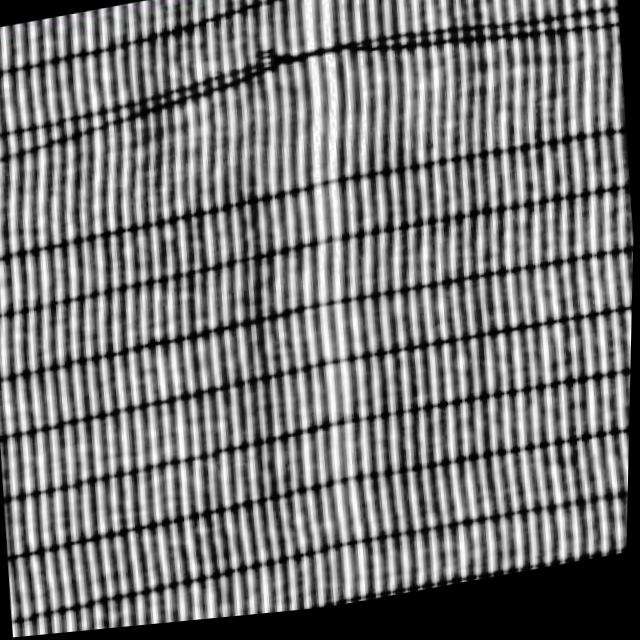Stitch: (132, 0, 483, 146)
